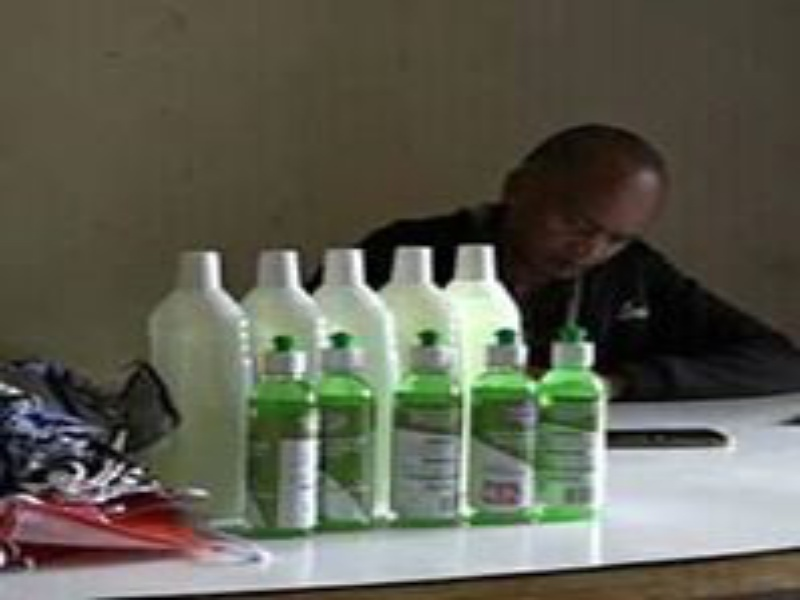TsisyArotava: (490, 108, 676, 294)
